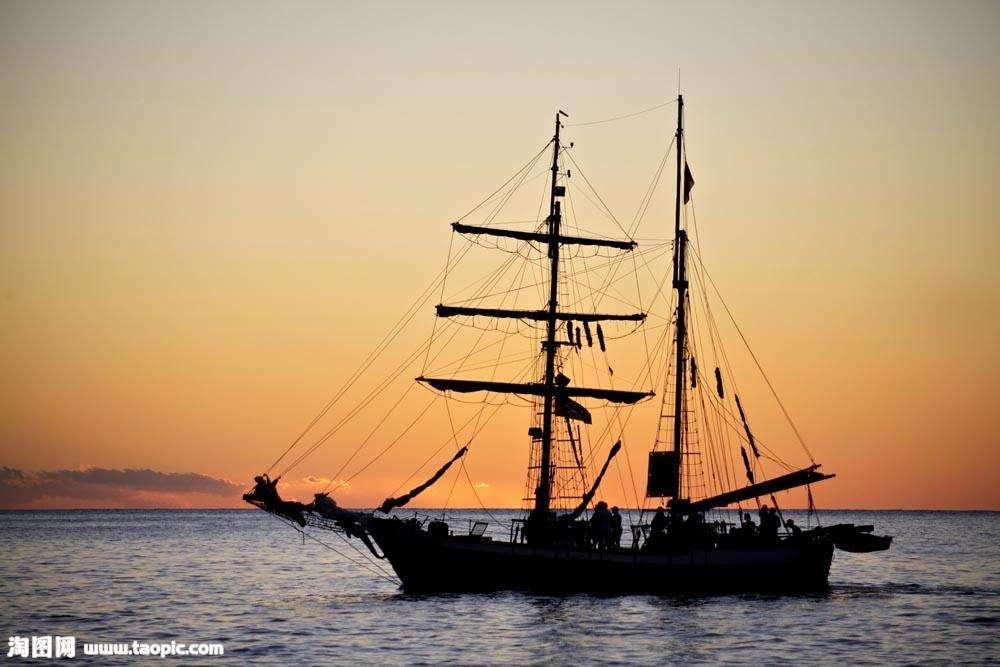fanchuan: (245, 73, 904, 596)
